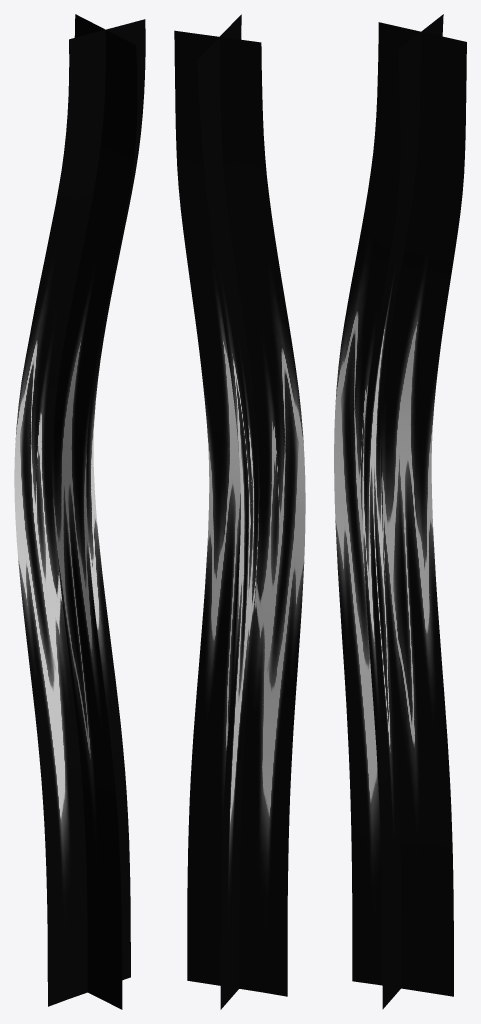
3 renders of one model, left to right at view 1: azimuth 30°, elevation 25°; view 2: azimuth 150°, elevation 25°; view 3: azimuth 330°, elevation 25°, orthographic.
Visible parts, largest first — view 1: SM_AnimatVent_LOD0; view 2: SM_AnimatVent_LOD0; view 3: SM_AnimatVent_LOD0.
Boxes of the visible parts, x1,y1,x2,y2 form: SM_AnimatVent_LOD0: [14, 14, 145, 1009]; SM_AnimatVent_LOD0: [174, 14, 305, 1009]; SM_AnimatVent_LOD0: [334, 14, 466, 1009].
Bounding box in the file's own units: 0.6634 × 4.63 × 0.5265.
Materials: 1 (1 with a texture image).
